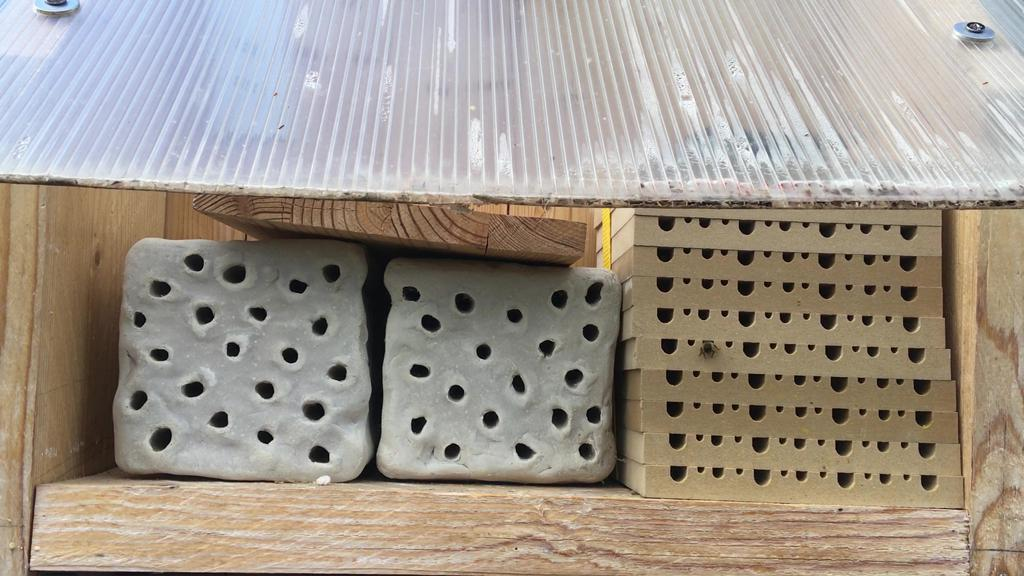bee: (698, 337, 722, 362)
